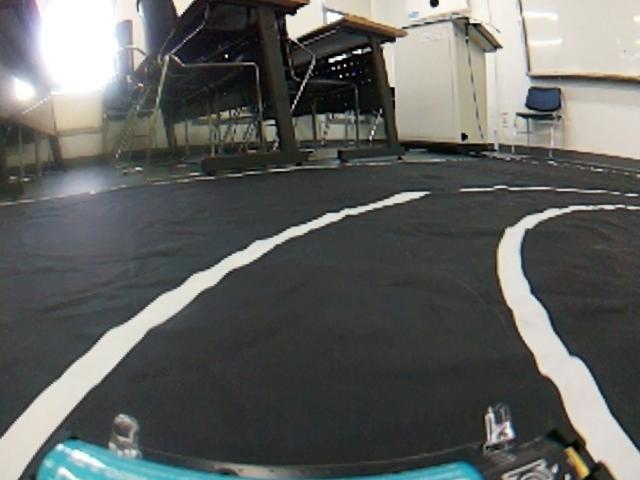right: (5, 180, 640, 479)
